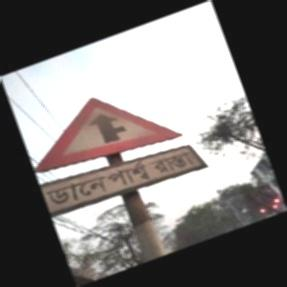Side-road-right: (38, 97, 211, 216)
